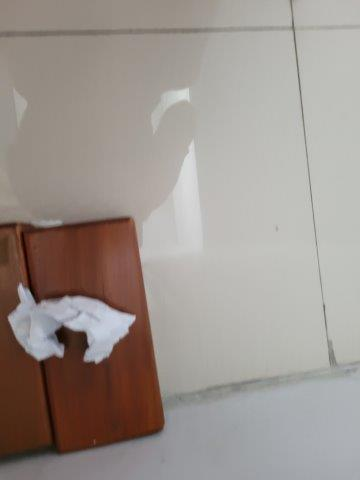kertas: (6, 285, 136, 360)
